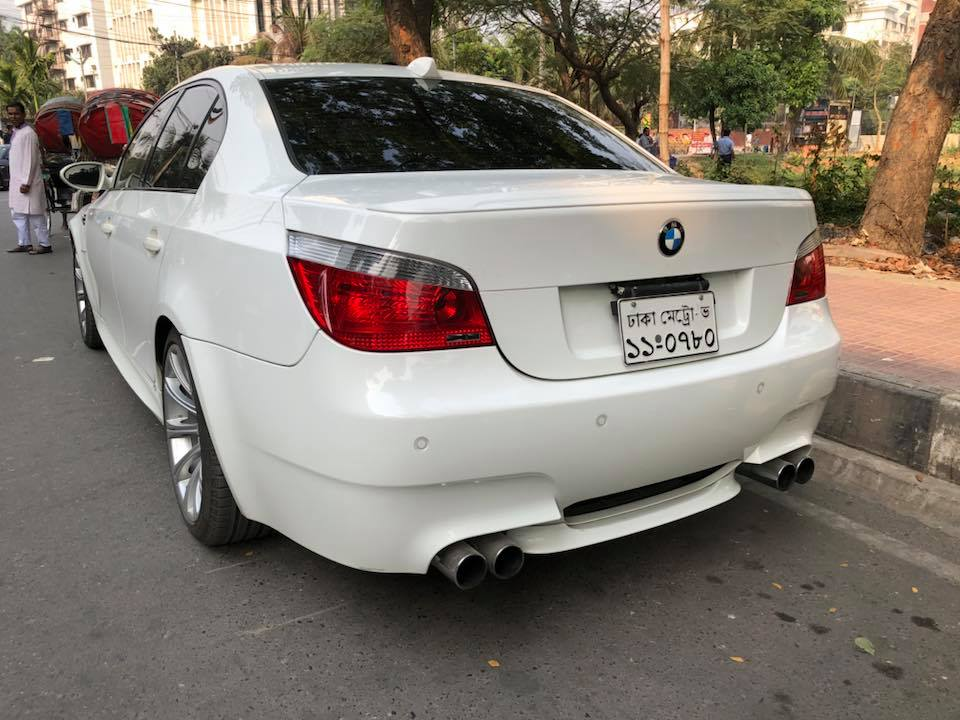registration_plate: (617, 290, 720, 366)
